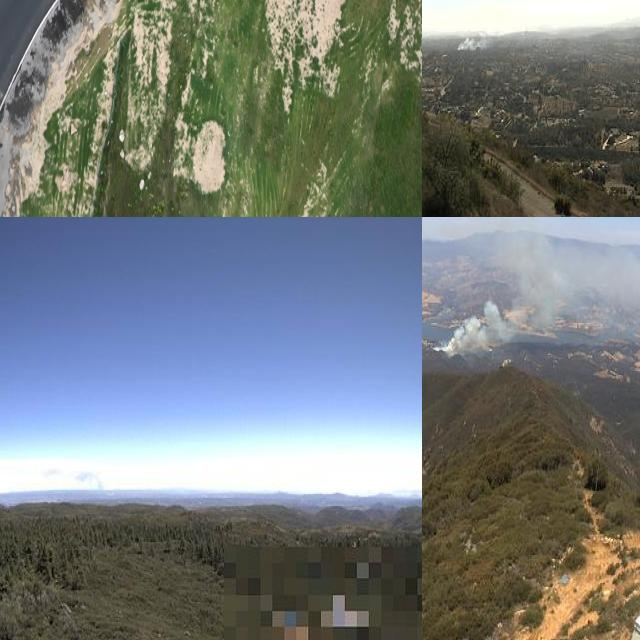smoke: (424, 217, 640, 363), (456, 23, 522, 52), (70, 471, 106, 490)
